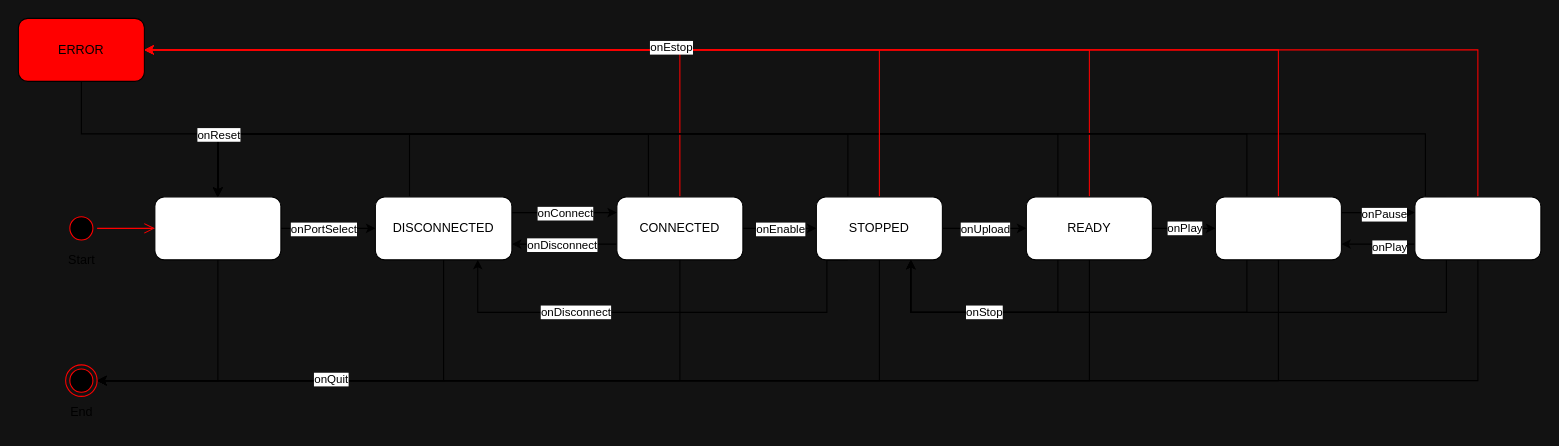
Image size: 1559x446. Some labels were removed from this diagram. Each missing label, with the centre of its shape:
IDLE: (217,228)
PAUSED: (1477,228)
PLAYING: (1277,228)
